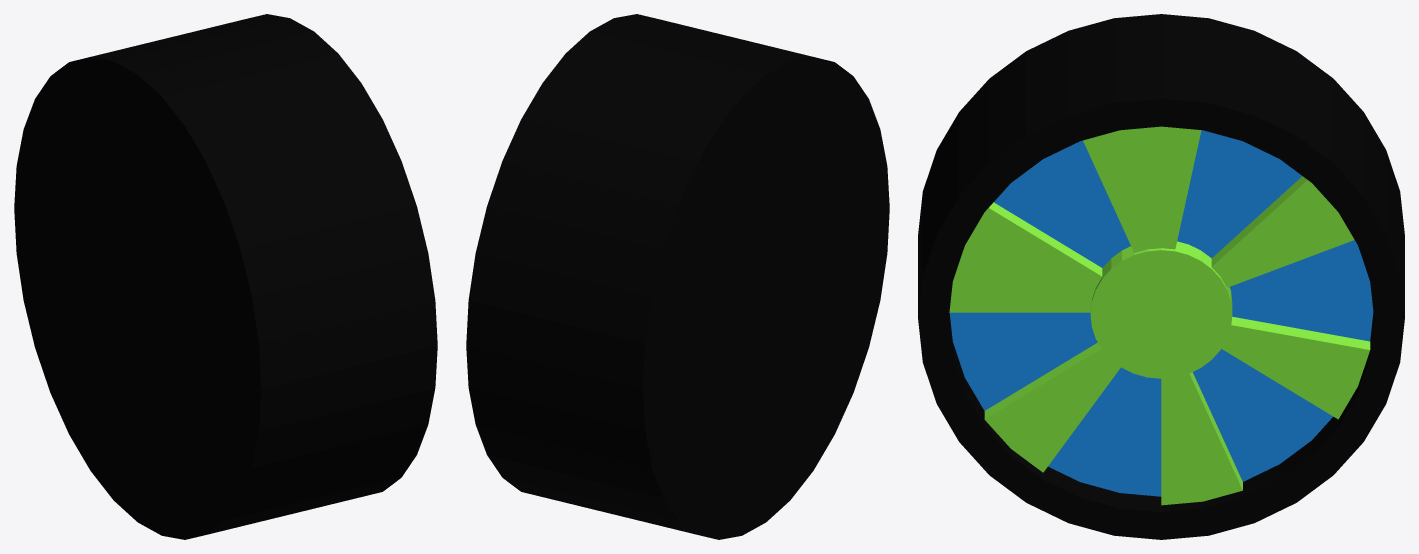
File: rodaakira2esq.fbx
3 renders of one model, left to right at view 1: azimuth 30°, elevation 25°; view 2: azimuth 150°, elevation 25°; view 3: azimuth 270°, elevation 25°, orthographic.
Parts seen in each view (by area): view 1: Cilindro; view 2: Cilindro; view 3: Cilindro.
Part boxes in pixels (<box>): Cilindro: <box>14,14,437,539</box>; Cilindro: <box>466,14,889,539</box>; Cilindro: <box>918,14,1404,539</box>.
Bounding box in the file's own units: 82.5 × 200 × 200.
